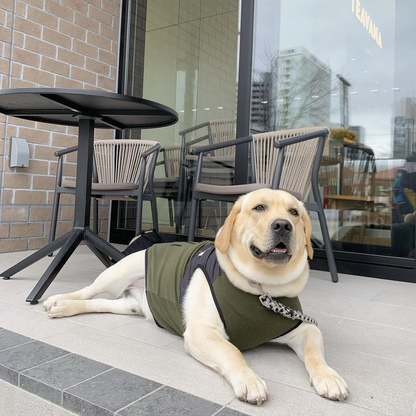labrado: (36, 184, 356, 410)
